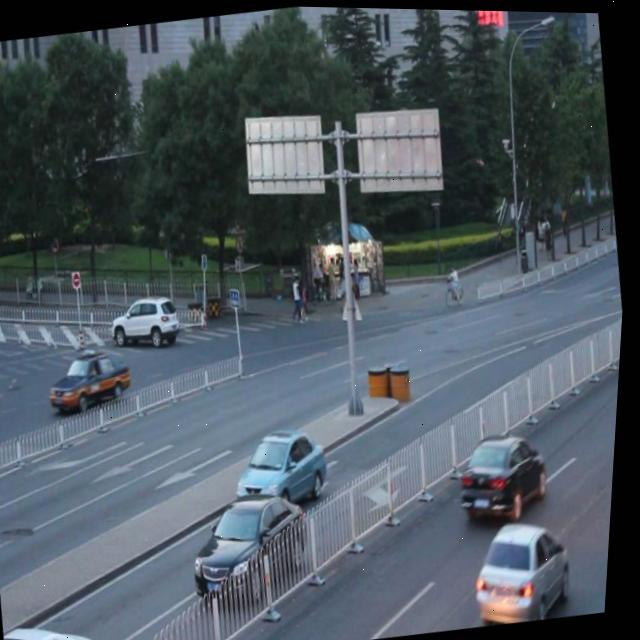car: (189, 480, 324, 608), (471, 511, 587, 626), (234, 422, 339, 512), (456, 429, 558, 520), (47, 343, 141, 417), (111, 290, 189, 353), (9, 609, 112, 640)
